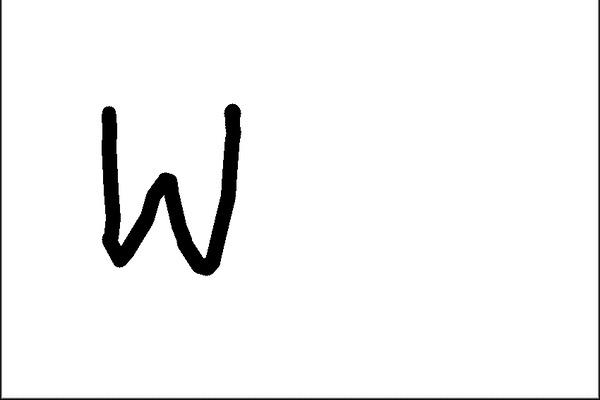w: (87, 91, 258, 298)
